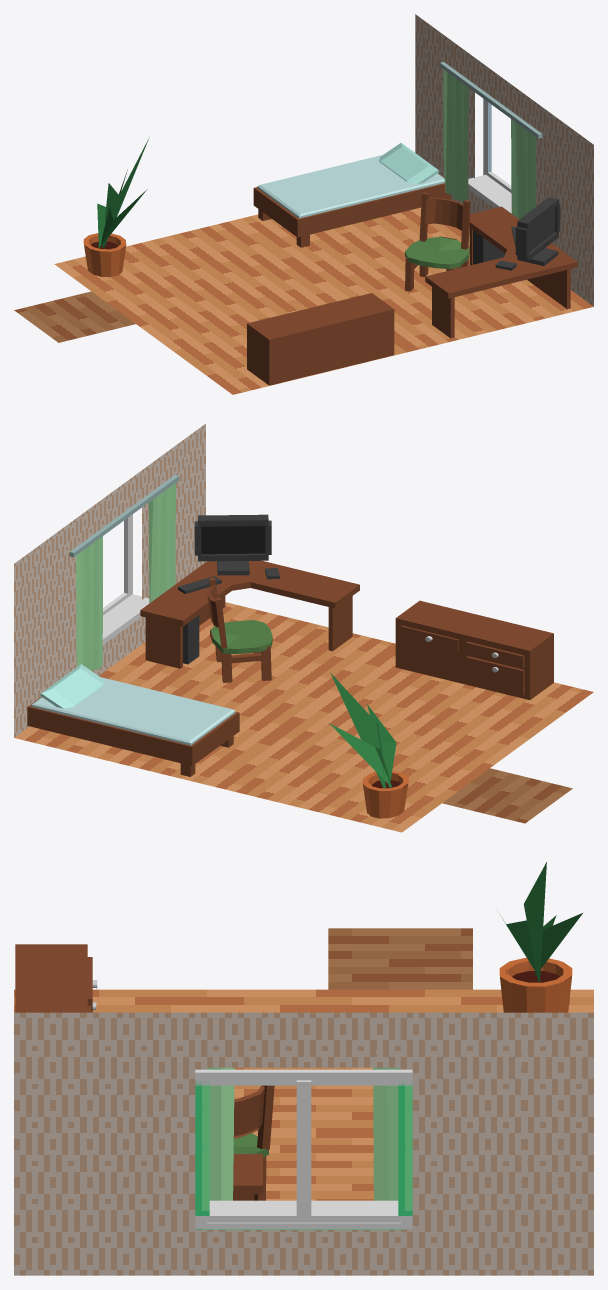
The model's file is new_pc_room.gltf.
3 views of the same model, one above another, from view 1: azimuth 30°, elevation 25°; view 2: azimuth 150°, elevation 25°; view 3: azimuth 270°, elevation 25° (orthographic). The views are drawn at different scales.
Parts seen in each view (by area): view 1: cuboid-col (×3), mesh-col (×4), bed, plane (×3), table with pc, enterance-col, walls, cuboid, cylinder-col; view 2: cuboid-col (×3), mesh-col (×4), plane (×5), bed, walls, table with pc, cuboid, enterance-col, cylinder-col; view 3: cuboid-col (×3), walls, plane (×5), enterance-col, mesh-col (×2), cylinder-col.
Boxes of the visible parts, <box> form: cuboid-col (×3): <box>54,14,593,394</box>; mesh-col (×4): <box>247,173,526,385</box>; bed: <box>257,143,444,247</box>; plane (×3): <box>102,69,536,247</box>; table with pc: <box>432,228,577,338</box>; enterance-col: <box>14,291,135,342</box>; walls: <box>440,62,542,213</box>; cuboid: <box>515,197,560,265</box>; cylinder-col: <box>83,233,126,277</box>; cuboid-col (×3): <box>14,423,593,832</box>; mesh-col (×4): <box>27,564,553,765</box>; plane (×5): <box>76,483,396,788</box>; bed: <box>31,664,235,776</box>; walls: <box>69,474,524,695</box>; table with pc: <box>145,560,352,668</box>; cuboid: <box>194,514,271,575</box>; enterance-col: <box>442,768,572,823</box>; cylinder-col: <box>363,771,408,818</box>; cuboid-col (×3): <box>14,989,593,1275</box>; walls: <box>87,957,412,1229</box>; plane (×5): <box>207,862,582,1200</box>; enterance-col: <box>328,928,472,989</box>; mesh-col (×2): <box>15,944,262,1194</box>; cylinder-col: <box>499,957,572,1012</box>.
Size of what is drawn, in the model's own units: 1.11 by 0.3812 by 0.75.
1 material, 1 textured.
